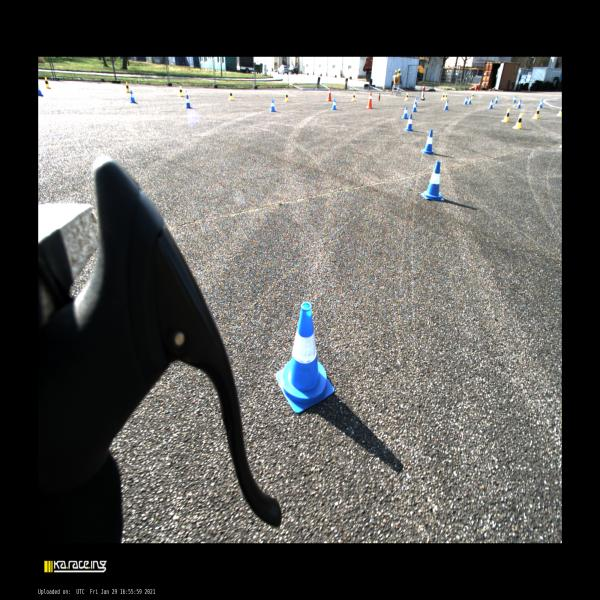blue_cone: (275, 302, 334, 413), (421, 161, 444, 201), (422, 130, 434, 154), (404, 114, 414, 131), (130, 90, 138, 103), (185, 94, 192, 108), (270, 98, 277, 112), (402, 106, 409, 119), (412, 97, 420, 107), (38, 84, 44, 96), (332, 98, 338, 110), (411, 102, 418, 112), (487, 99, 494, 109), (443, 100, 449, 110), (537, 99, 543, 108), (463, 96, 468, 105), (516, 100, 521, 109), (468, 96, 472, 104), (512, 95, 516, 103), (494, 96, 498, 103)
large_orange_cone: (366, 92, 374, 108), (327, 86, 332, 101)
yellow_cone: (512, 113, 522, 128), (501, 109, 510, 122), (532, 106, 539, 118), (45, 77, 51, 89), (556, 107, 562, 116), (126, 82, 130, 94), (229, 91, 234, 100), (351, 92, 356, 101), (180, 86, 184, 97), (285, 92, 289, 102), (404, 92, 408, 101), (398, 68, 401, 76), (441, 93, 444, 100), (471, 92, 474, 99), (445, 92, 447, 100), (395, 70, 397, 76)
